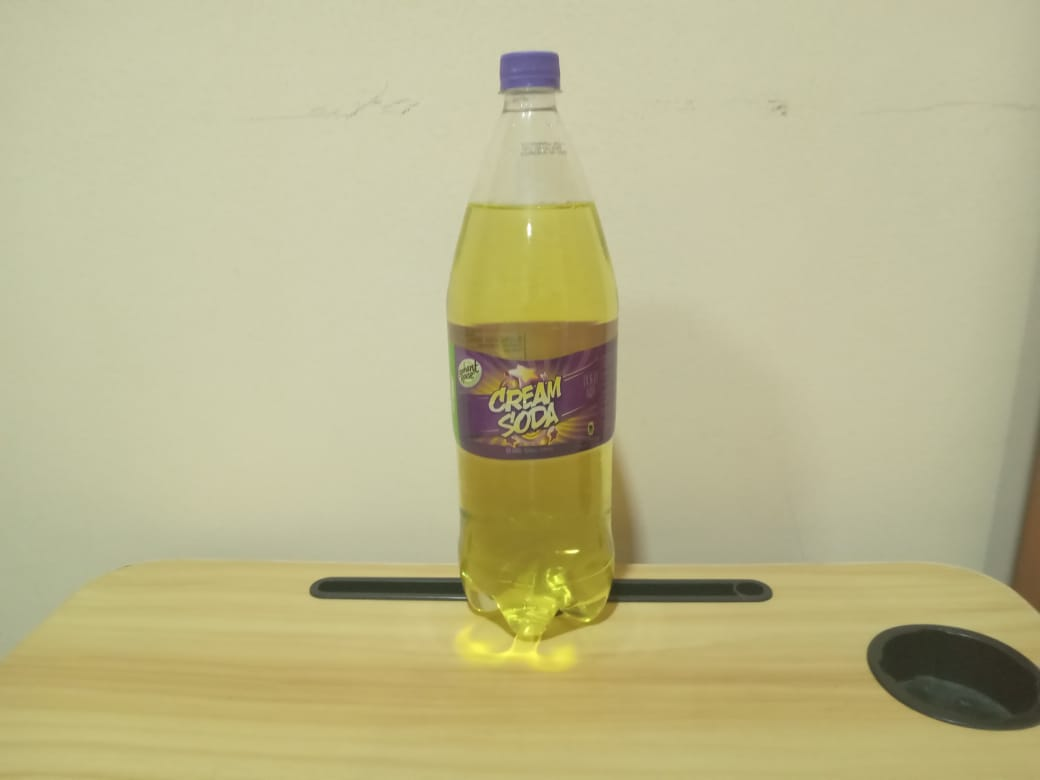L: (449, 47, 627, 649)
